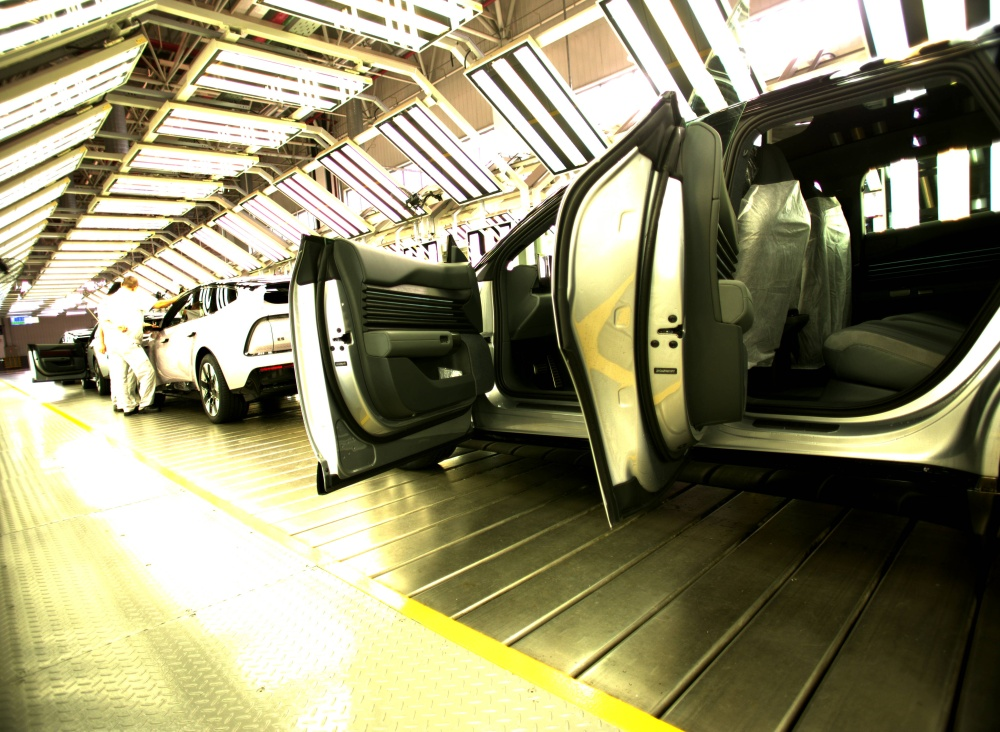armrest_color: (362, 329, 456, 358)
panel_color: (359, 279, 458, 332)
